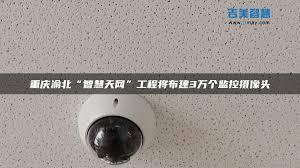maru: (71, 85, 163, 165)
